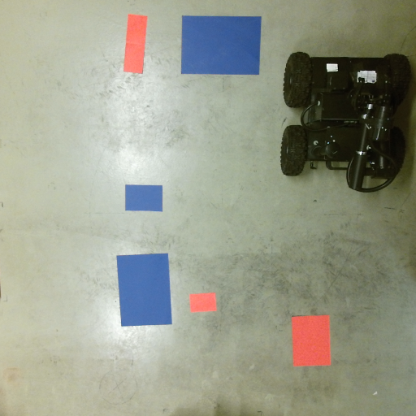Blue: (181, 14, 262, 77), (115, 254, 175, 327), (123, 183, 165, 211)
Jaguar: (280, 49, 410, 195)
Red: (289, 315, 333, 366), (120, 11, 148, 73), (190, 292, 217, 315)
